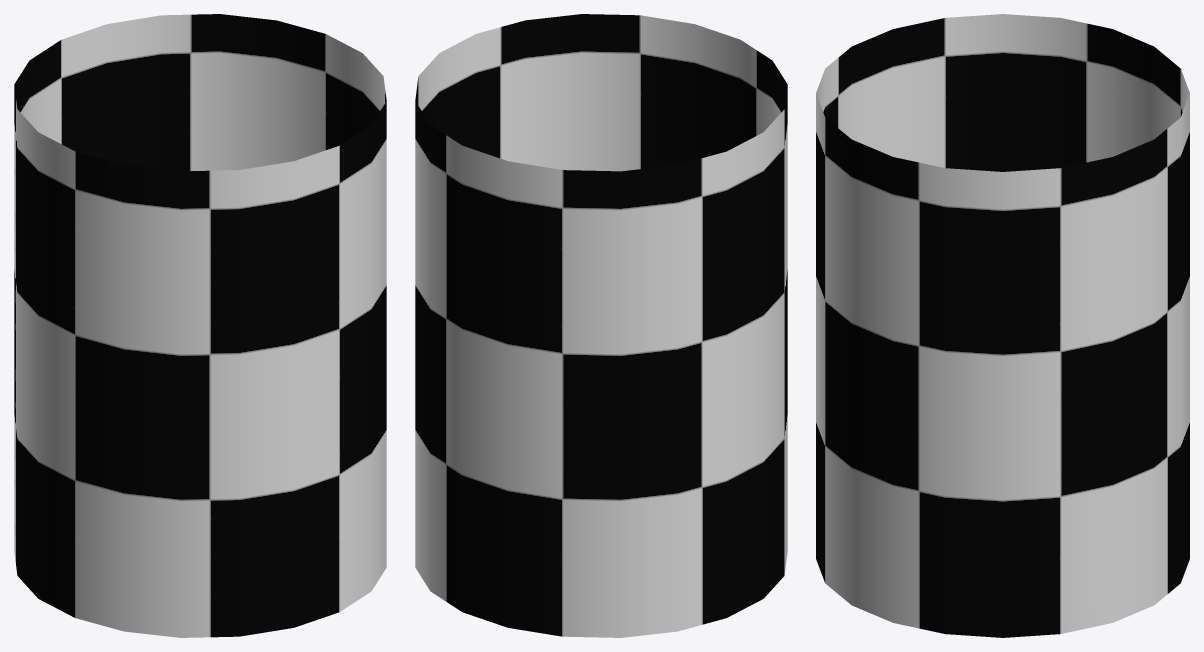
The picture shows the model from 3 angles, left to right: view 1: azimuth 30°, elevation 25°; view 2: azimuth 150°, elevation 25°; view 3: azimuth 270°, elevation 25°; orthographic projection.
Parts seen in each view (by area): view 1: mesh_effect_tall_cylinder; view 2: mesh_effect_tall_cylinder; view 3: mesh_effect_tall_cylinder.
Part boxes in pixels (left/top/right/bottom): mesh_effect_tall_cylinder: left=14, top=14, right=386, bottom=637; mesh_effect_tall_cylinder: left=415, top=14, right=787, bottom=637; mesh_effect_tall_cylinder: left=816, top=14, right=1189, bottom=637.
Size of the model in its own units: 8 by 11 by 8.
1 material, 1 textured.
